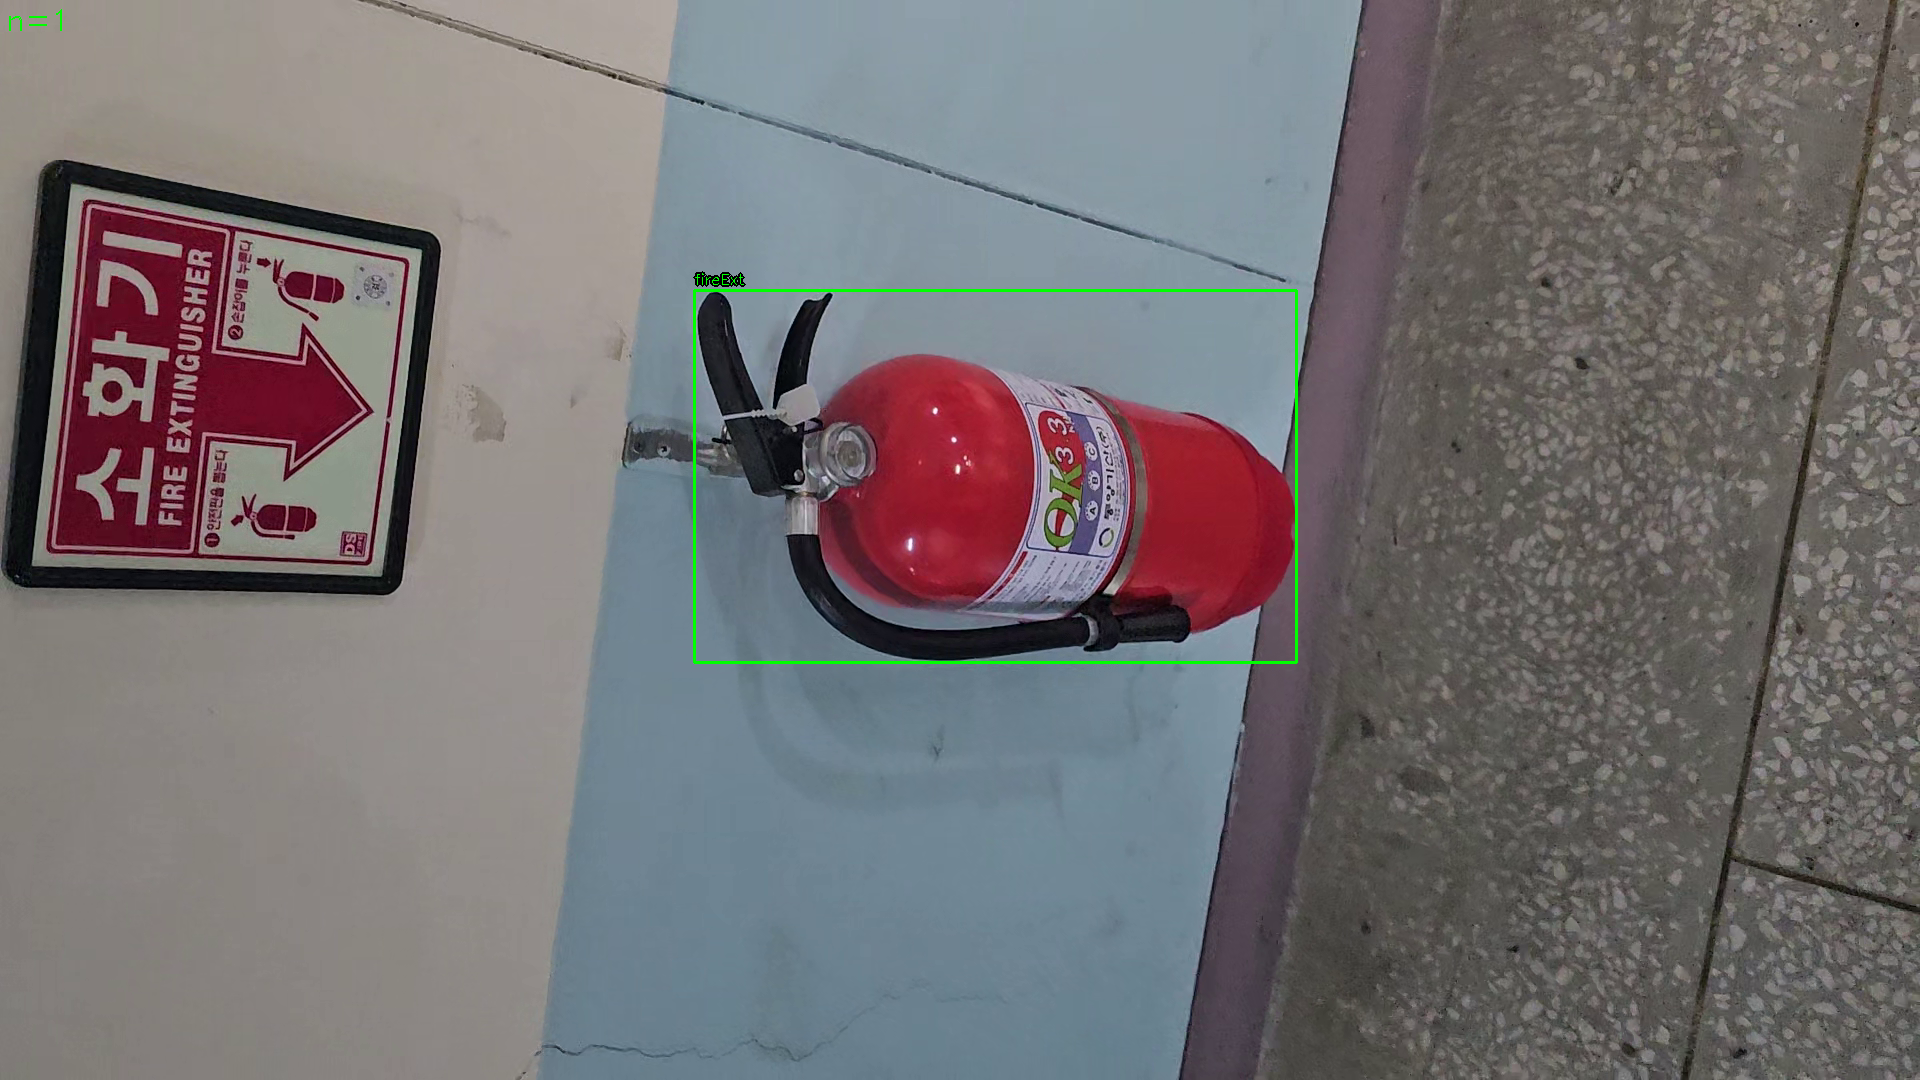lane: (694, 290, 1298, 663)
